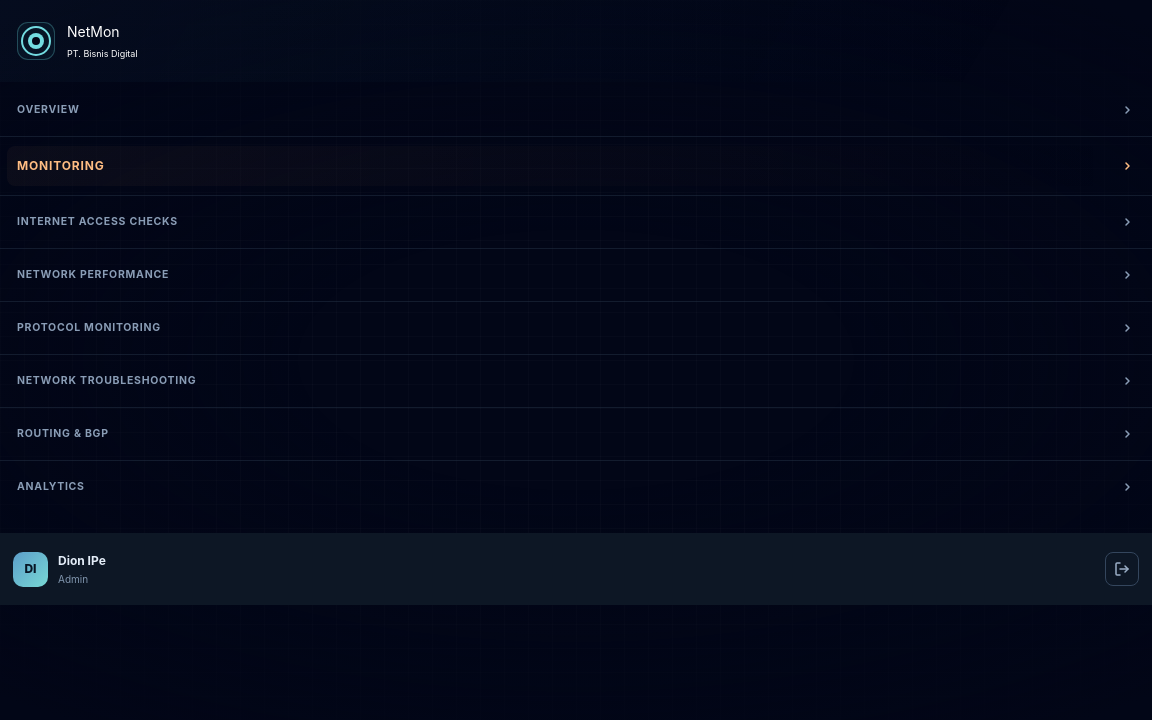
Scenario: moves visual focus to the clicked group while preserving other expanded groups
The width and height of the screenshot is (1152, 720).
Click the button "PROTOCOL MONITORING". click: [89, 327]
box: [7,311,1145,345]
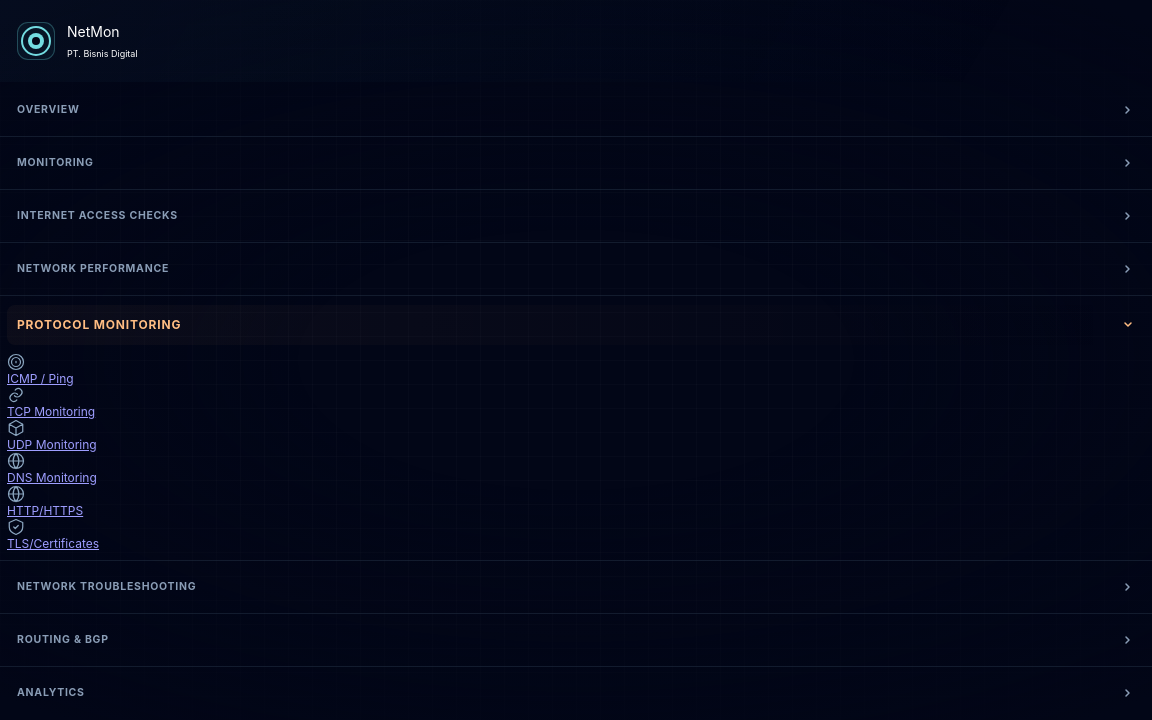
Expected: the button "PROTOCOL MONITORING" is expanded
Click the button "PROTOCOL MONITORING". click: [99, 324]
box: [7,305,1145,345]
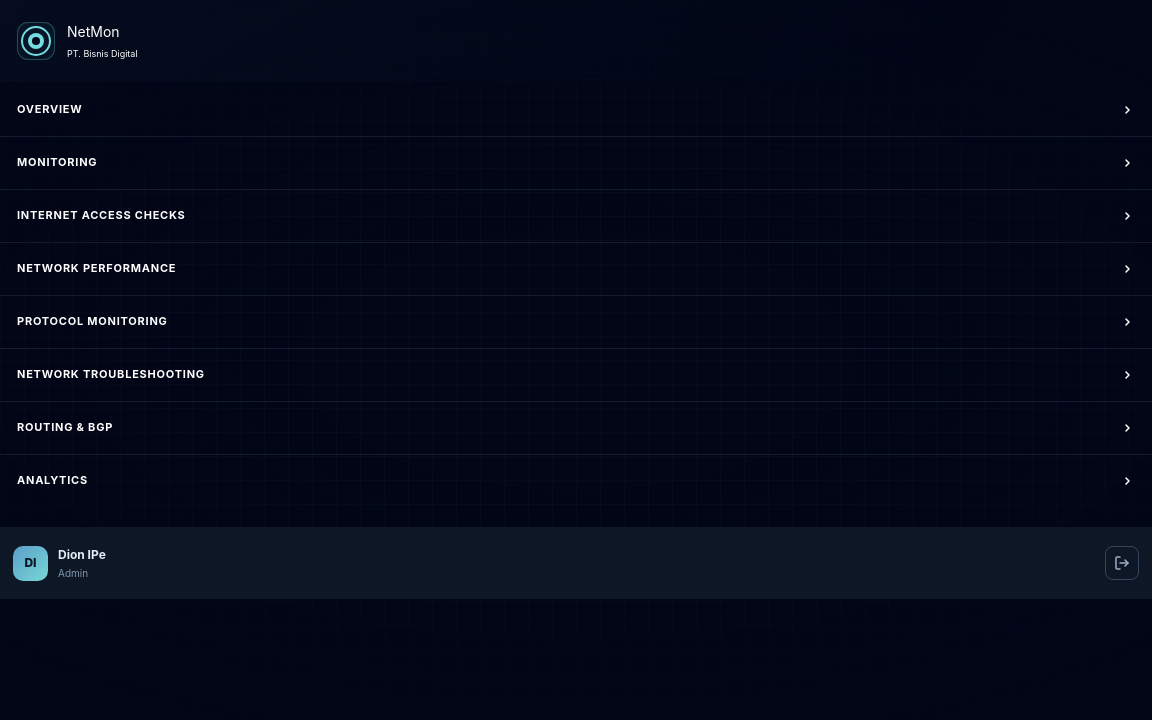
Expected: the button "PROTOCOL MONITORING" is collapsed, [7,305,1145,339]
